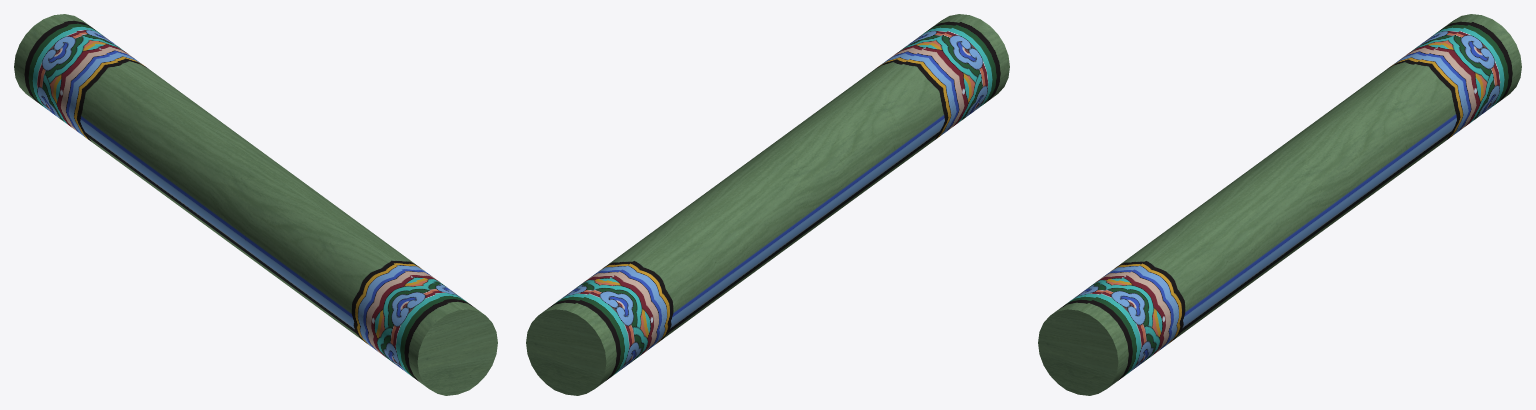
Rendered from SM_SJM_CrossBeam03B_02.fbx.
3 views of the same model, side by side, from view 1: azimuth 30°, elevation 25°; view 2: azimuth 150°, elevation 25°; view 3: azimuth 330°, elevation 25° (orthographic).
Parts seen in each view (by area): view 1: SM_SJM_CrossBeam03B_02; view 2: SM_SJM_CrossBeam03B_02; view 3: SM_SJM_CrossBeam03B_02.
Part boxes in pixels (x1,y1,x2,y2): SM_SJM_CrossBeam03B_02: (14, 14, 497, 395); SM_SJM_CrossBeam03B_02: (526, 14, 1009, 395); SM_SJM_CrossBeam03B_02: (1038, 14, 1521, 395).
Size of the model in its own units: 31 by 269 by 31.
1 material, 1 textured.
